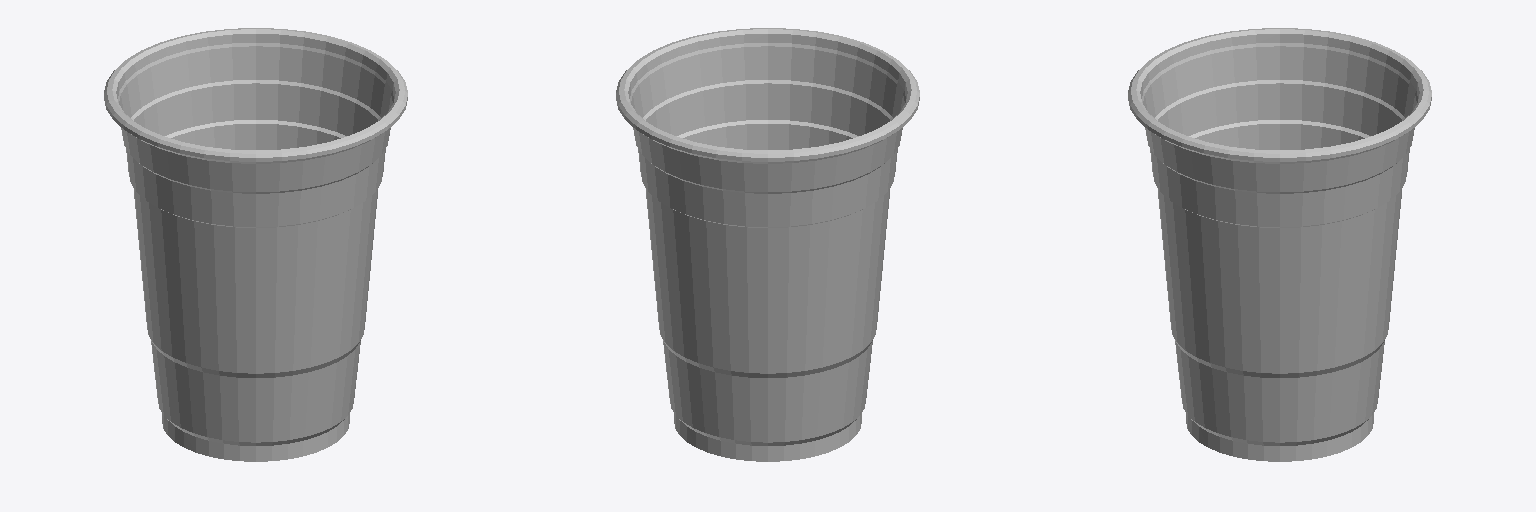
File: cup 1.obj
3 views of the same model, side by side, from view 1: azimuth 30°, elevation 25°; view 2: azimuth 150°, elevation 25°; view 3: azimuth 270°, elevation 25° (orthographic).
Visible parts, largest first — view 1: RedCup; view 2: RedCup; view 3: RedCup.
Boxes of the visible parts, x1=… form: RedCup: x1=104, y1=28, x2=407, y2=461; RedCup: x1=616, y1=28, x2=919, y2=461; RedCup: x1=1128, y1=28, x2=1431, y2=461.
Size of the model in its own units: 3.95 by 4.76 by 3.95.